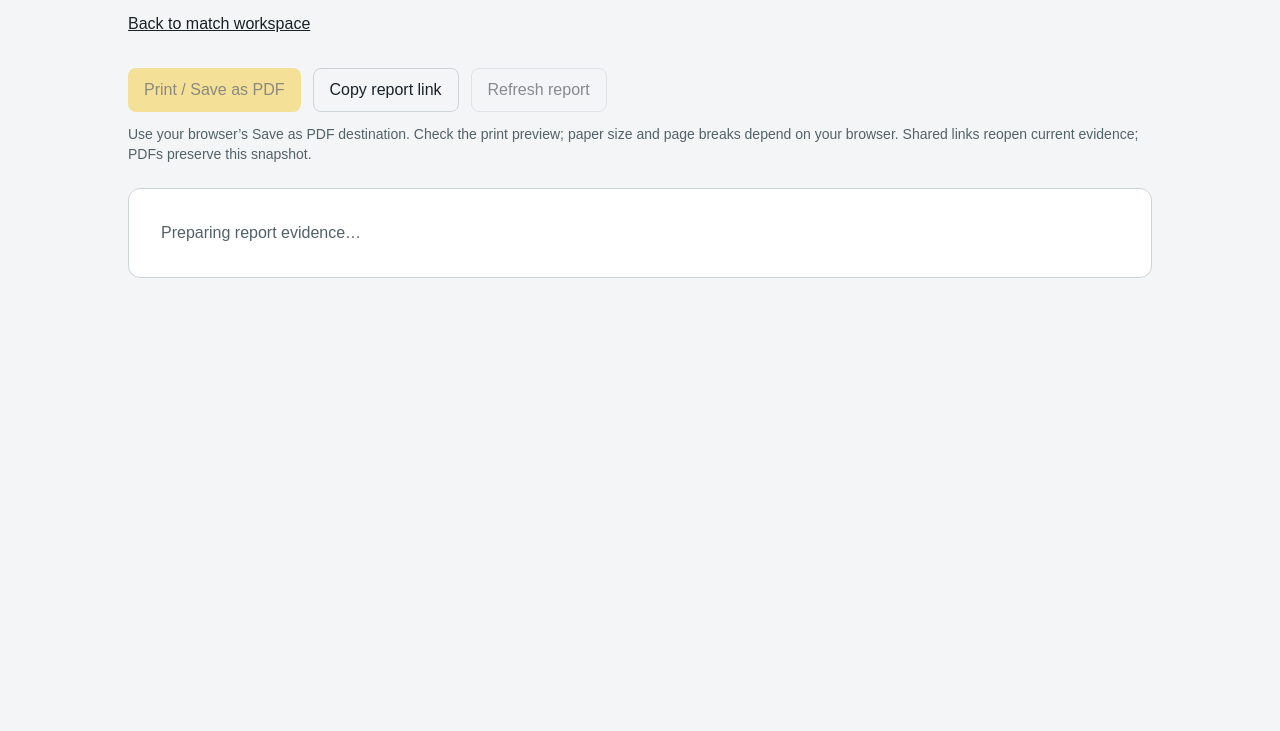
Scenario: report export and selection lifecycle › requests browser printing only when evidence settles, without claiming a PDF was saved
This screenshot has width=1280, height=731.
Click the button "Print / Save as PDF". click: (214, 90)
box: [128, 68, 300, 112]
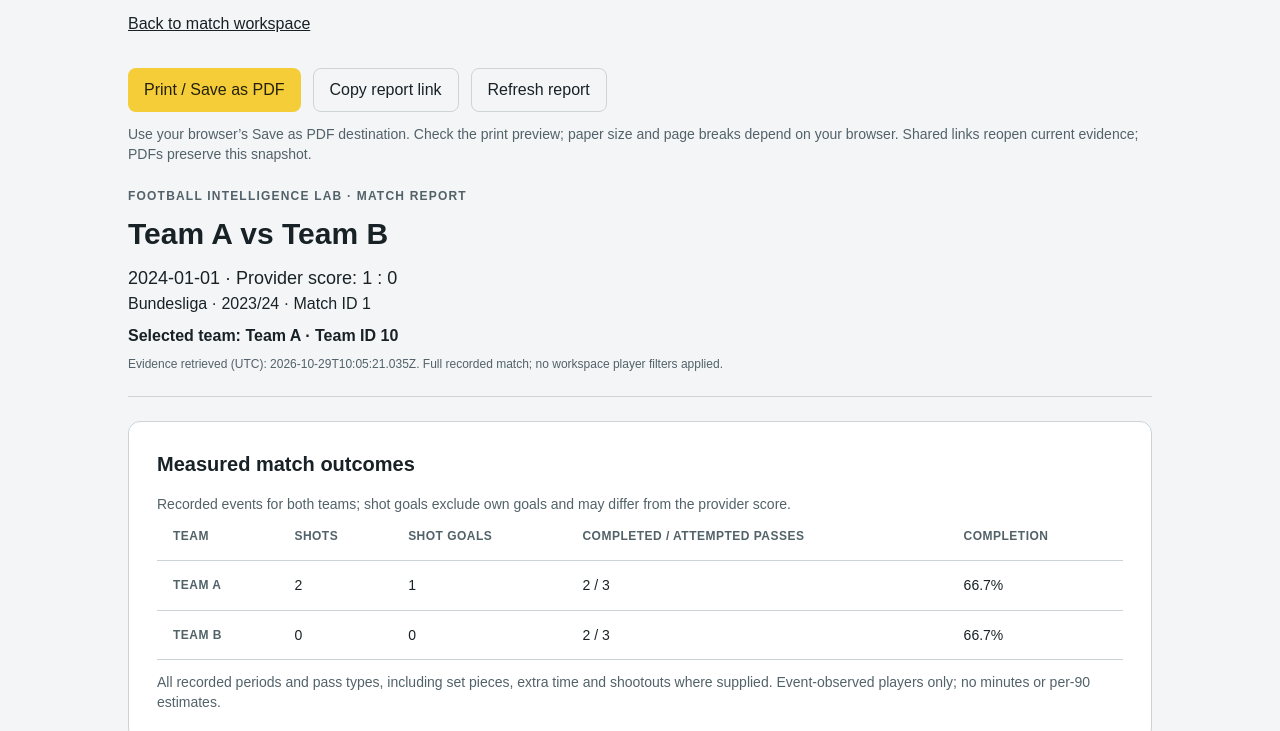
Click the button "Print / Save as PDF". click: (214, 90)
box: [128, 68, 300, 112]
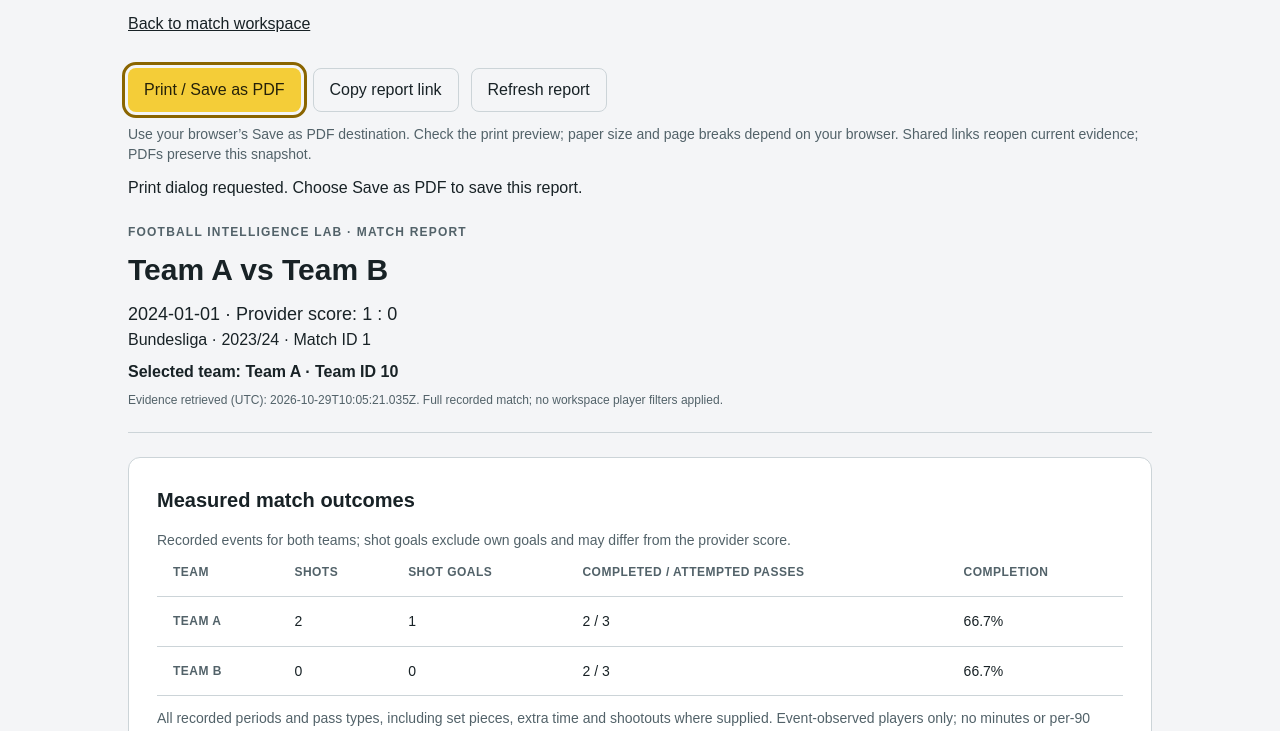
expect the text "Print dialog requested. Choose Save as PDF to save this report." is shown: met, box [128, 179, 582, 196]
